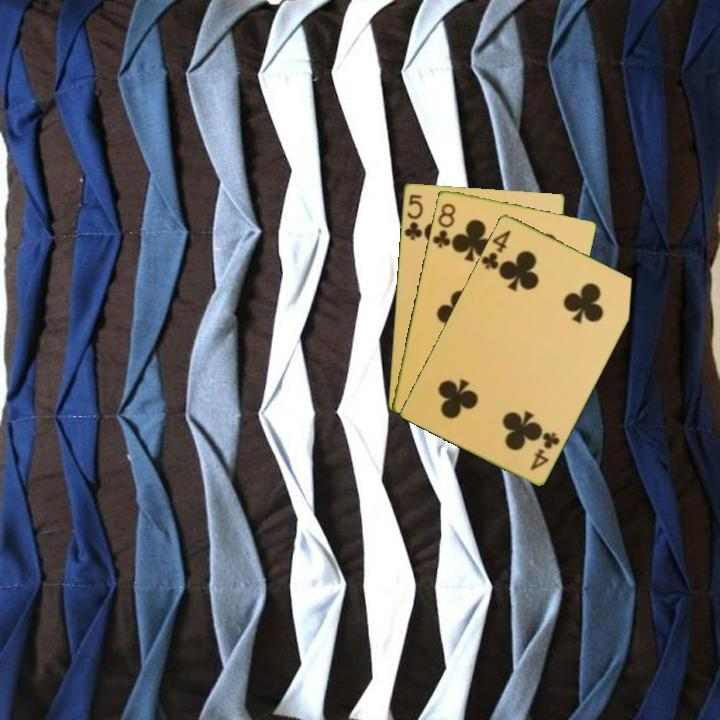4c: (526, 428, 563, 473), (478, 226, 514, 272)
5c: (401, 190, 426, 242)
8c: (429, 199, 458, 251)
